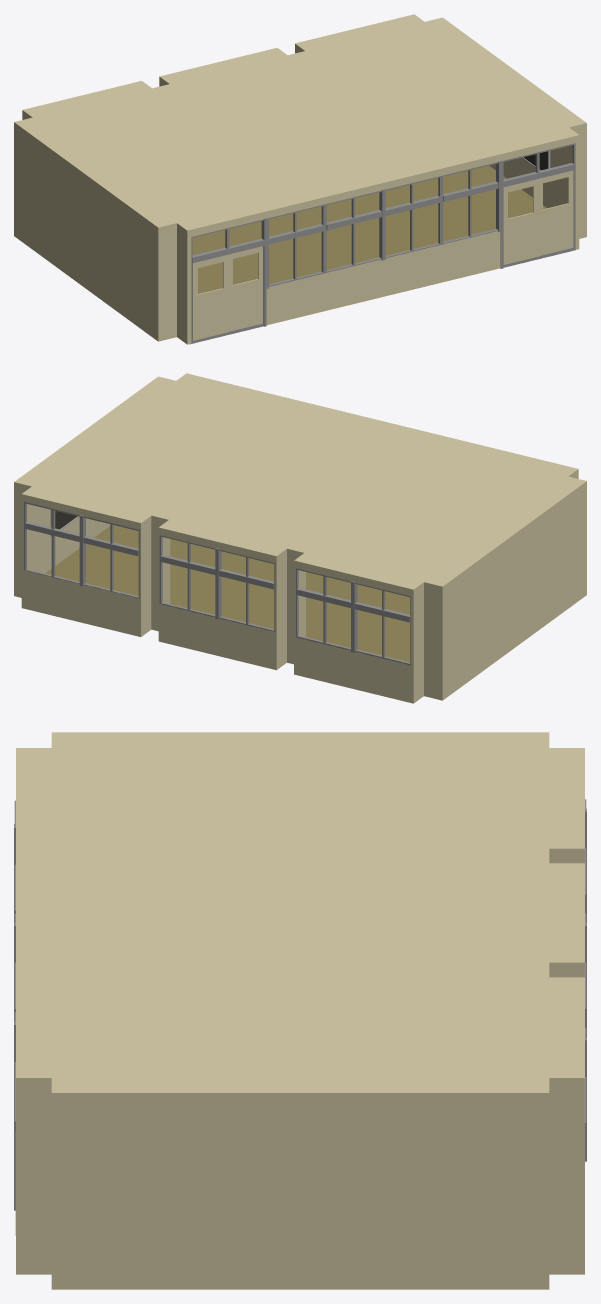
Rendered from classroom_2.glb.
3 renders of one model, top to bottom at view 1: azimuth 30°, elevation 25°; view 2: azimuth 150°, elevation 25°; view 3: azimuth 270°, elevation 25°, orthographic. The views are drawn at different scales.
Visible parts, largest first — view 1: 教室.002, ドア.001, ドア, 窓.006, 窓.004, 窓.005; view 2: 教室.002, 窓.002, 窓.001, 窓.003; view 3: 教室.002.
Part boxes in pixels (bbox=[...]): 教室.002: bbox=[14, 14, 586, 344]; ドア.001: bbox=[192, 246, 263, 340]; ドア: bbox=[503, 170, 573, 264]; 窓.006: bbox=[441, 143, 575, 268]; 窓.004: bbox=[190, 204, 324, 344]; 窓.005: bbox=[325, 176, 441, 273]; 教室.002: bbox=[14, 373, 586, 703]; 窓.002: bbox=[159, 535, 275, 631]; 窓.001: bbox=[24, 502, 139, 598]; 窓.003: bbox=[296, 568, 410, 665]; 教室.002: bbox=[16, 732, 584, 1289].
Size of the model in its own units: 12.12 by 3.09 by 8.14.
